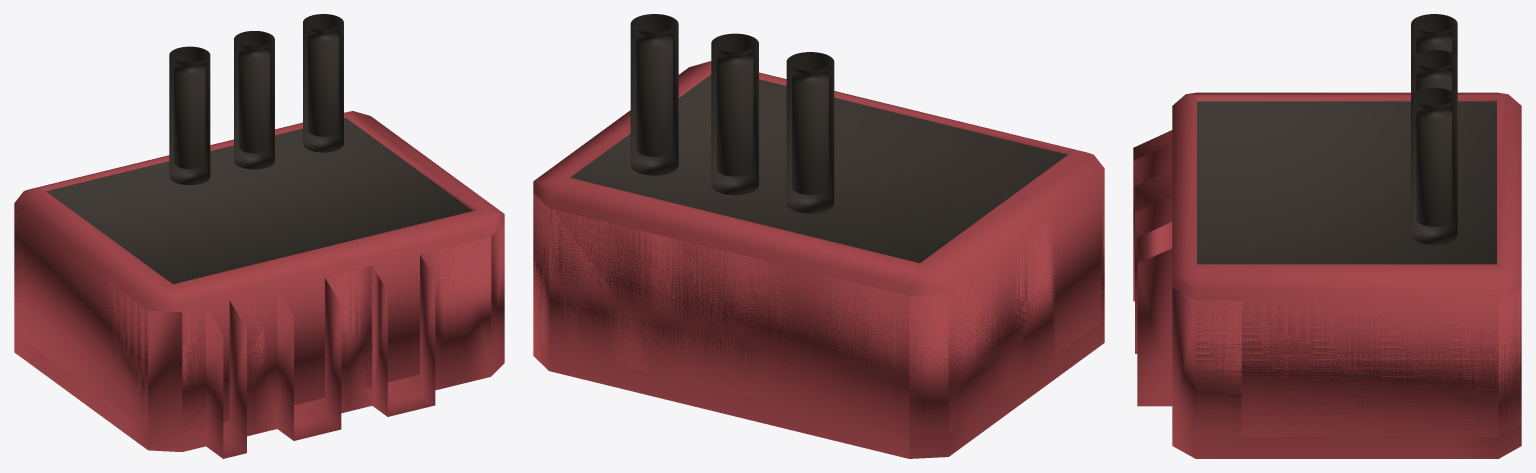
Rendered from hub_red_lvl2.glb.
3 renders of one model, left to right at view 1: azimuth 30°, elevation 25°; view 2: azimuth 150°, elevation 25°; view 3: azimuth 270°, elevation 25°, orthographic. The views are drawn at different scales.
Visible parts, largest first — view 1: Cube, Cylinder.004, Cylinder.001, Cylinder.003; view 2: Cube, Cylinder.004, Cylinder.001, Cylinder.003; view 3: Cube, Cylinder.001, Cylinder.003, Cylinder.004.
Part boxes in pixels (bbox=[...]): Cube: bbox=[14, 111, 504, 458]; Cylinder.004: bbox=[169, 46, 210, 185]; Cylinder.001: bbox=[303, 14, 343, 152]; Cylinder.003: bbox=[234, 31, 274, 169]; Cube: bbox=[533, 61, 1104, 458]; Cylinder.004: bbox=[786, 52, 834, 213]; Cylinder.001: bbox=[630, 14, 678, 175]; Cylinder.003: bbox=[711, 33, 758, 195]; Cube: bbox=[1133, 92, 1521, 458]; Cylinder.001: bbox=[1411, 88, 1457, 244]; Cylinder.003: bbox=[1411, 49, 1457, 96]; Cylinder.004: bbox=[1411, 14, 1457, 58].
Bounding box in the file's own units: 8 × 6.05 × 6.67.
